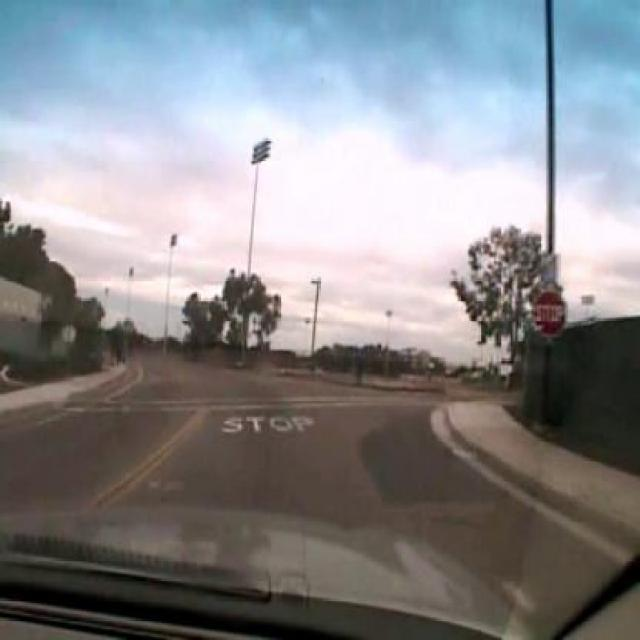Stop: (532, 288, 568, 342)
